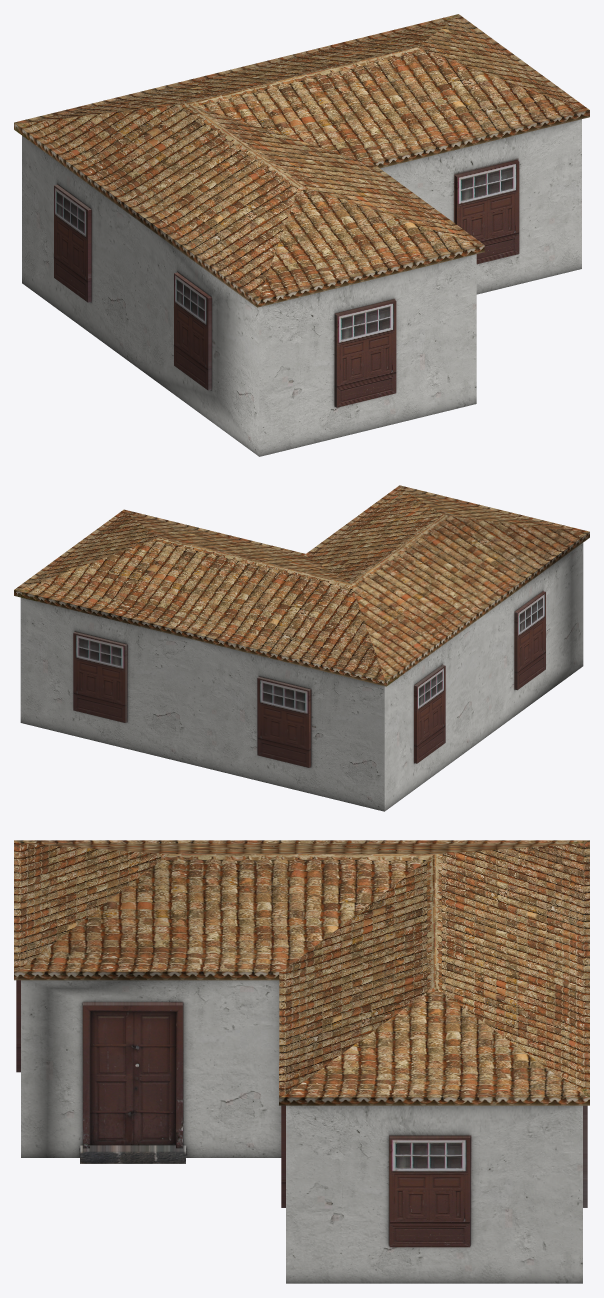
The model's file is casa2.fbx.
3 views of the same model, one above another, from view 1: azimuth 30°, elevation 25°; view 2: azimuth 150°, elevation 25°; view 3: azimuth 270°, elevation 25° (orthographic). The views are drawn at different scales.
Visible parts, largest first — view 1: casa2; view 2: casa2; view 3: casa2.
Boxes of the visible parts, x1,y1,x2,y2 form: casa2: (14,14,589,456); casa2: (14,485,589,811); casa2: (14,840,589,1283).
Size of the model in its own units: 26.52 by 11.43 by 25.12.
